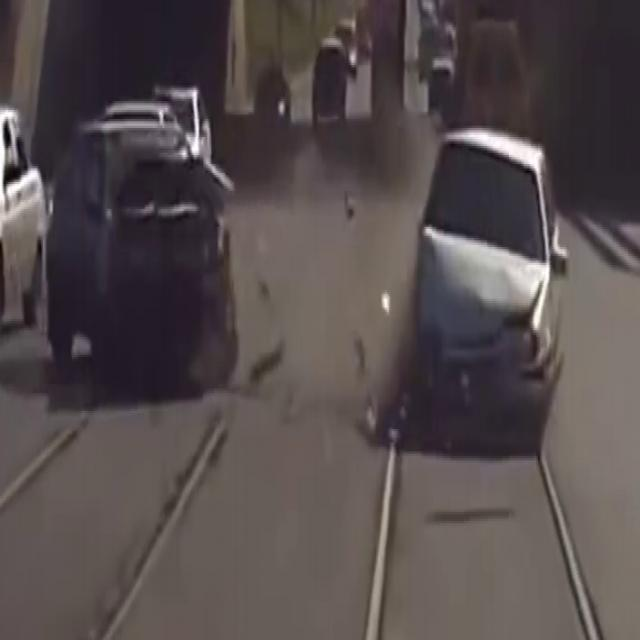accident: (382, 114, 579, 471), (36, 88, 242, 396)
